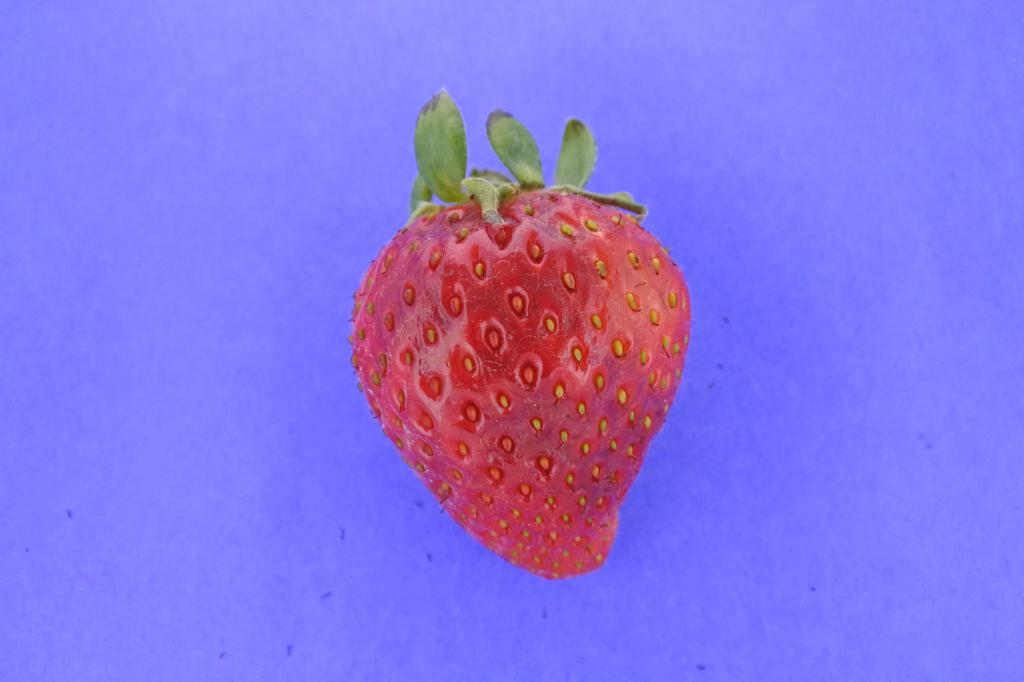red strawberry: (346, 89, 690, 582)
